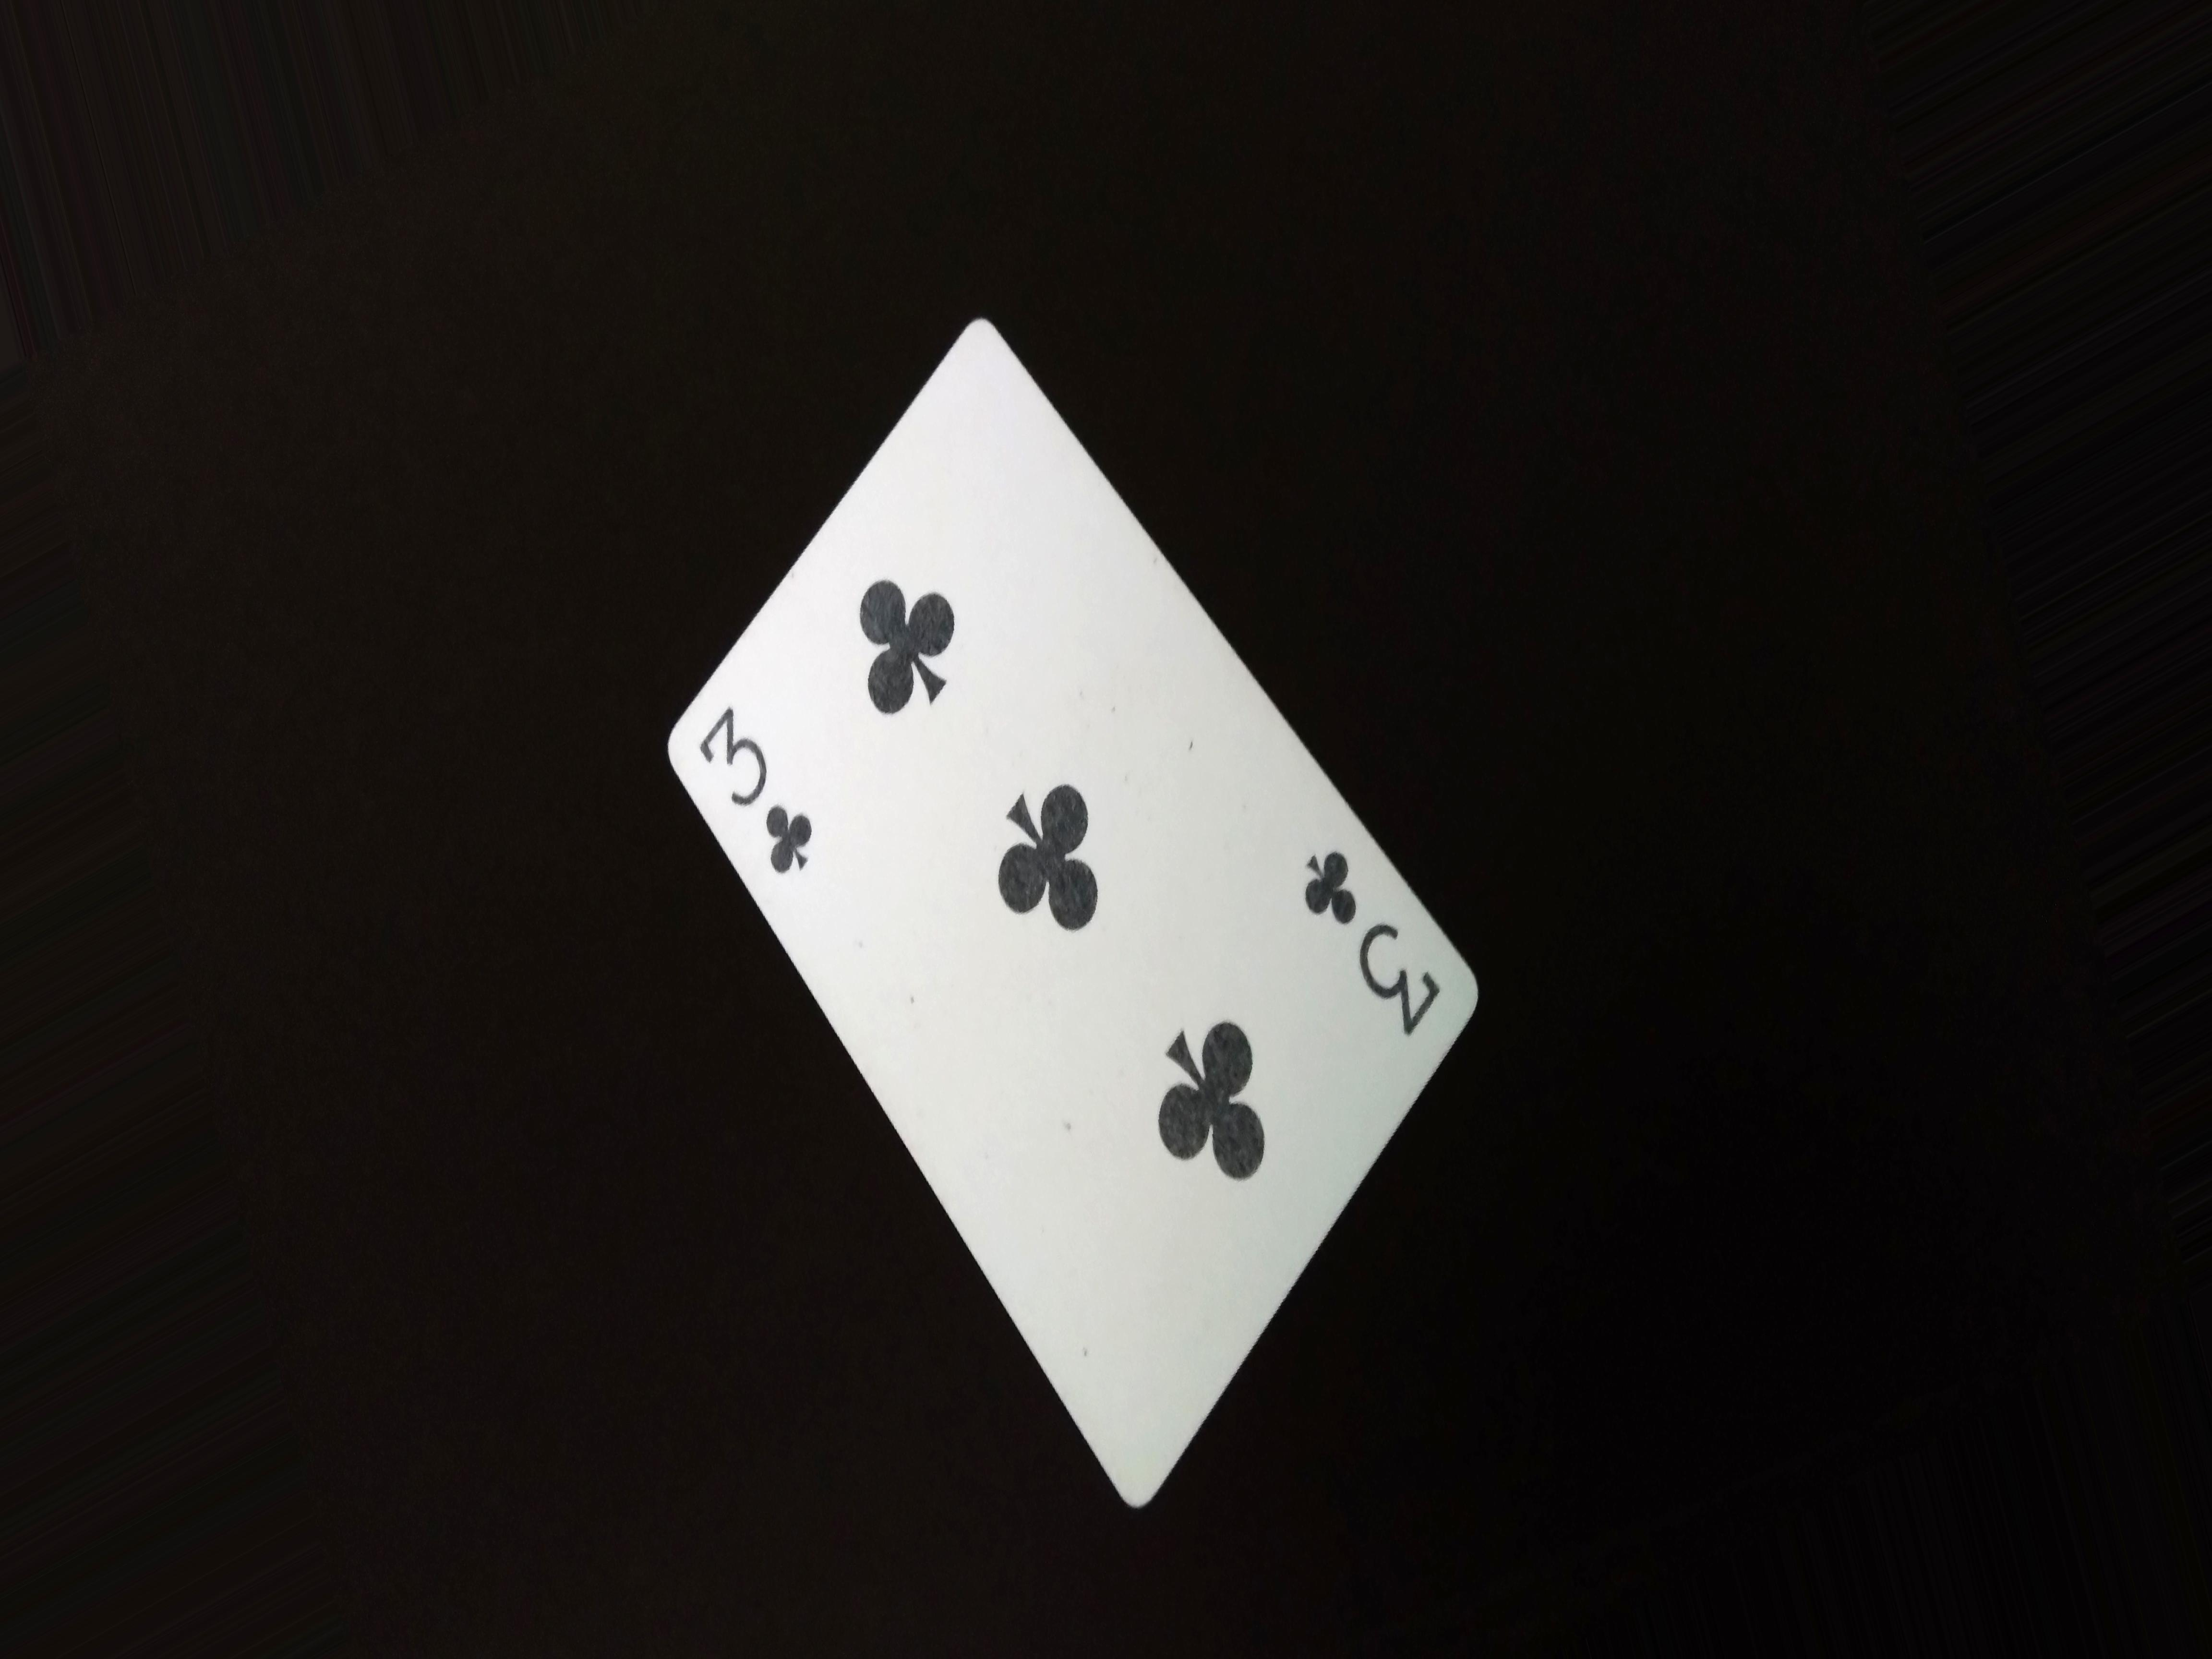3C: (681, 706, 888, 929)
